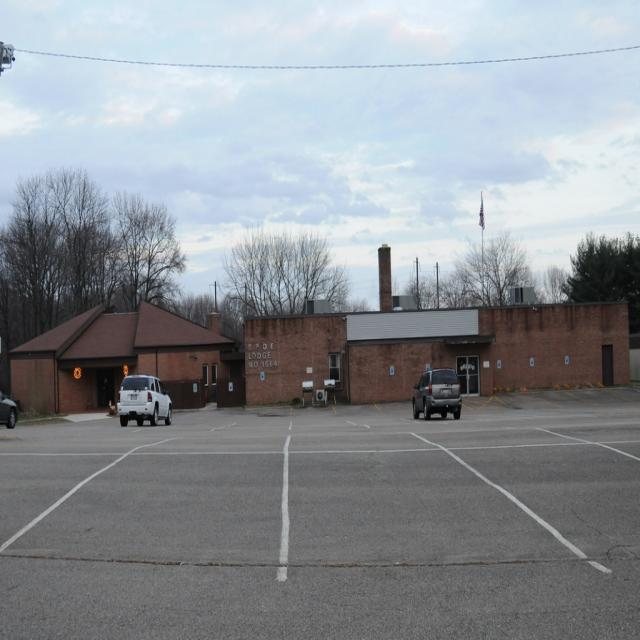car: (410, 364, 462, 420), (117, 375, 171, 427)
